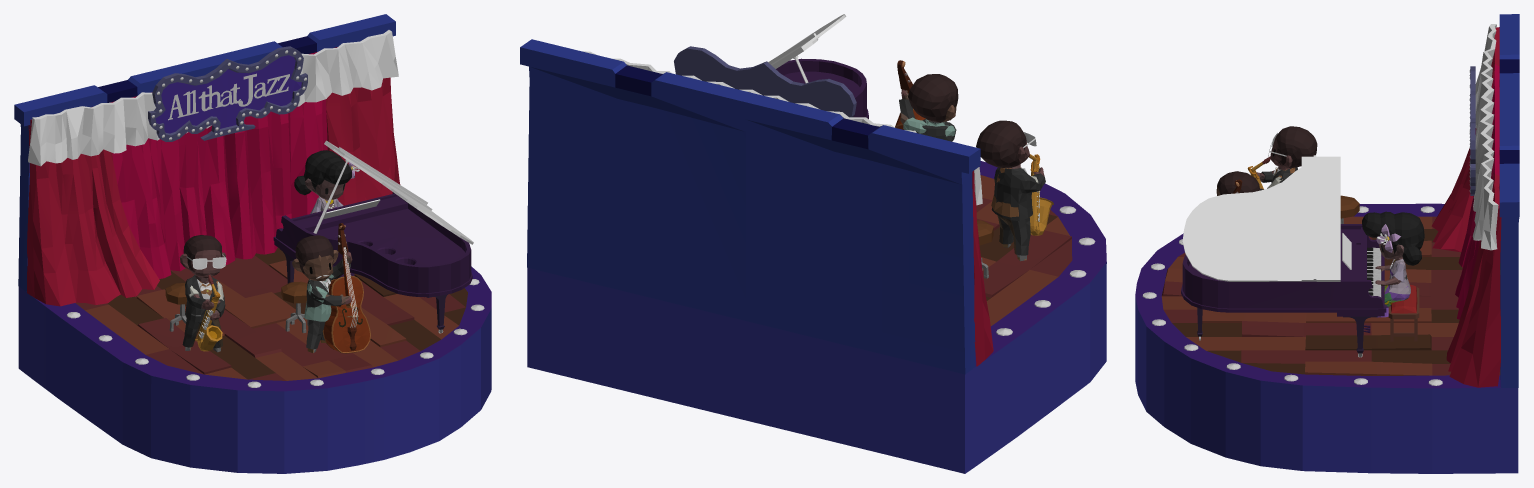
Rendered from 0069_jazzTrio.fbx.
The picture shows the model from 3 angles, left to right: view 1: azimuth 30°, elevation 25°; view 2: azimuth 150°, elevation 25°; view 3: azimuth 270°, elevation 25°; orthographic projection. The views are drawn at different scales.
Visible parts, largest first — view 1: stage, curtain2, Piano_Main, curtain1, Sign, stage_wall, contrabass, pianist_Head, Piano_Top, AllThatJazz, chair (×2), Bassist_C_Head (+4 smaller); view 2: stage_wall, stage, Sign, Piano_Main, Bassist_Head, curtain2, Saxophonist_C_Head, Saxophonist_C_Body, curtain1, Saxphone, Saxophonist_C_Pants, Piano_Top; view 3: stage, Piano_Top, curtain2, Piano_Main, stage_wall, curtain1, pianist_C_Head, Saxophonist_C_Head, PIano_chair, Sign, Saxophonist_Head, Bassist_C_Head (+2 smaller).
Part boxes in pixels (x1,y1,x2,y2): stage: [18, 247, 491, 473]; curtain2: [27, 47, 400, 306]; Piano_Main: [273, 192, 472, 297]; curtain1: [28, 30, 398, 166]; Sign: [148, 46, 307, 141]; stage_wall: [14, 14, 395, 291]; contrabass: [322, 223, 370, 353]; pianist_Head: [294, 150, 345, 199]; Piano_Top: [324, 140, 473, 244]; AllThatJazz: [168, 73, 289, 120]; chair (×2): [165, 281, 308, 333]; Bassist_C_Head: [292, 235, 338, 280]; stage_wall: [520, 39, 980, 374]; stage: [527, 161, 1106, 473]; Sign: [674, 46, 856, 117]; Piano_Main: [776, 58, 868, 118]; Bassist_Head: [908, 76, 957, 122]; curtain2: [972, 170, 993, 366]; Saxophonist_C_Head: [976, 120, 1029, 167]; Saxophonist_C_Body: [991, 164, 1032, 221]; curtain1: [582, 51, 982, 205]; Saxphone: [1029, 154, 1053, 235]; Saxophonist_C_Pants: [1000, 217, 1030, 261]; Piano_Top: [768, 14, 846, 68]; stage: [1135, 203, 1518, 473]; Piano_Top: [1182, 155, 1340, 281]; curtain2: [1431, 27, 1501, 387]; Piano_Main: [1181, 224, 1386, 332]; stage_wall: [1499, 14, 1519, 387]; curtain1: [1472, 24, 1498, 250]; pianist_C_Head: [1362, 213, 1424, 265]; Saxophonist_C_Head: [1270, 126, 1317, 168]; PIano_chair: [1388, 285, 1419, 341]; Sign: [1470, 66, 1475, 195]; Saxophonist_Head: [1271, 132, 1317, 168]; Bassist_C_Head: [1216, 171, 1250, 195].
Size of the model in its own units: 10.76 by 7.72 by 9.3.
